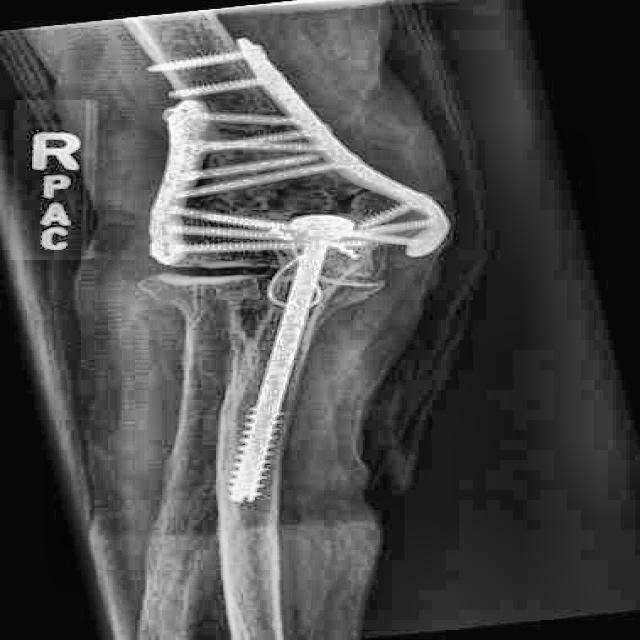elbow positive: (303, 167, 401, 220)
